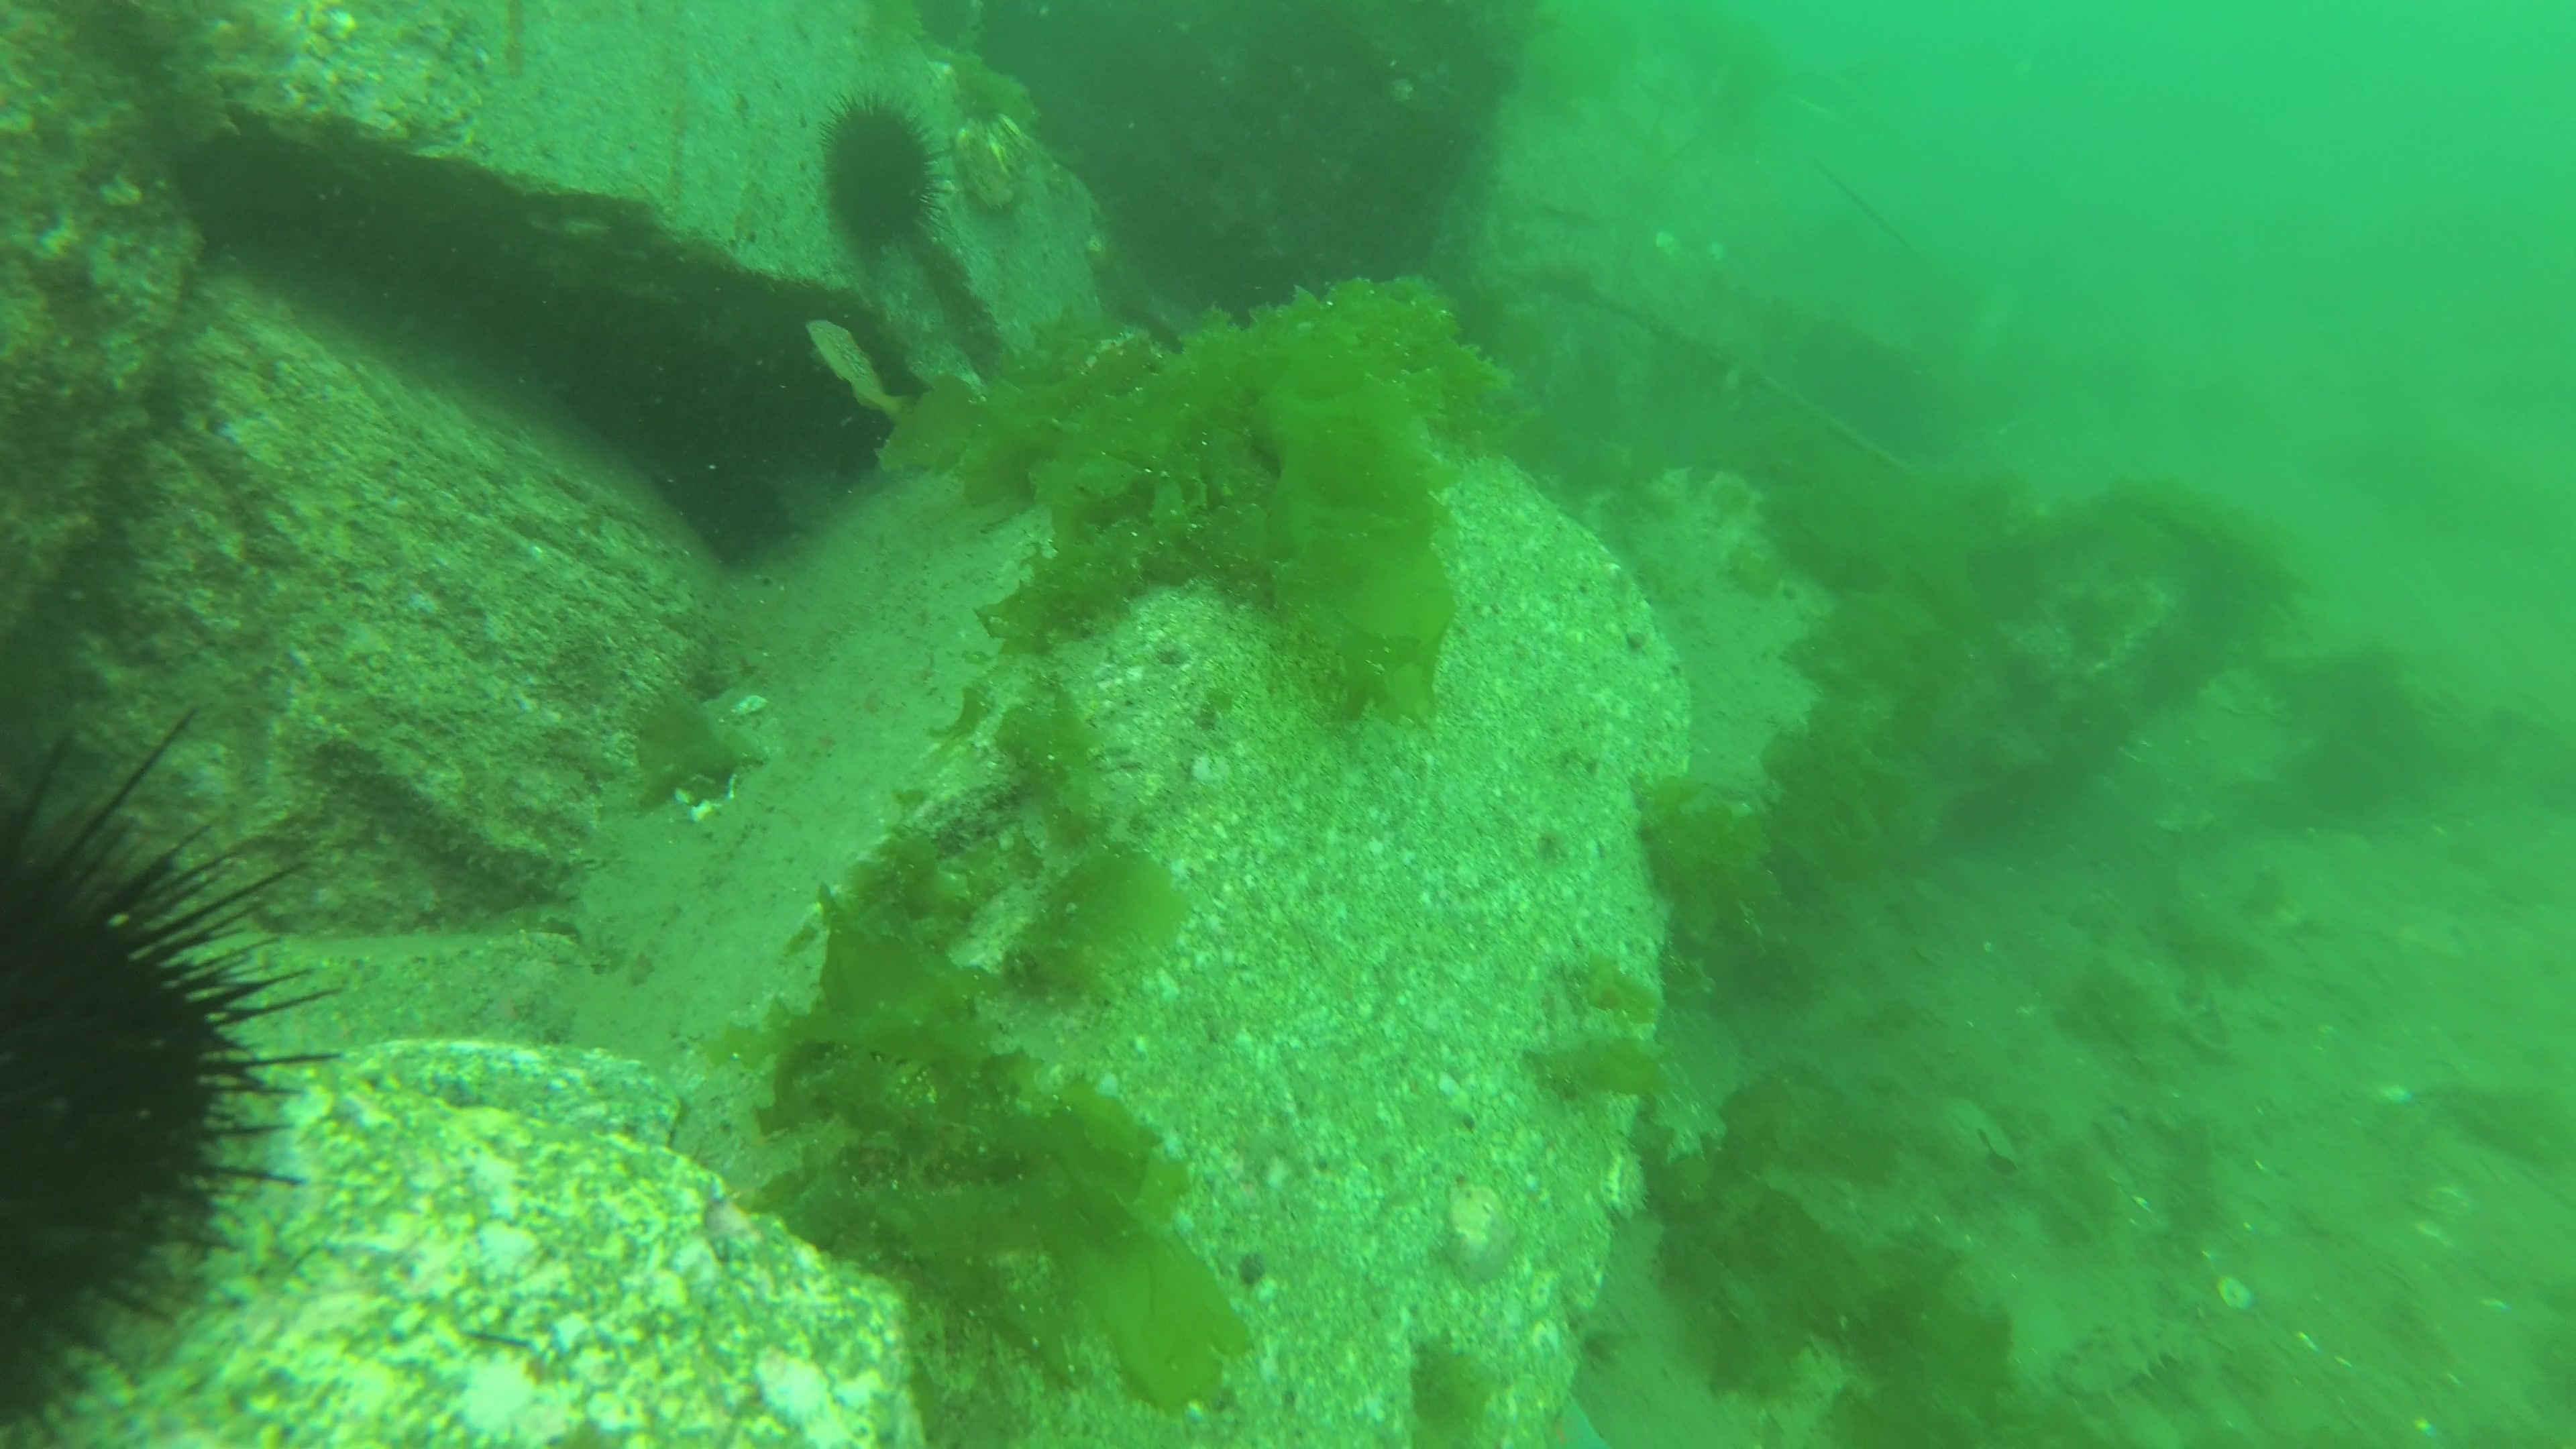echinus: (5, 711, 345, 1447), (814, 83, 957, 278)
holothurian: (2056, 1304, 2201, 1414)
